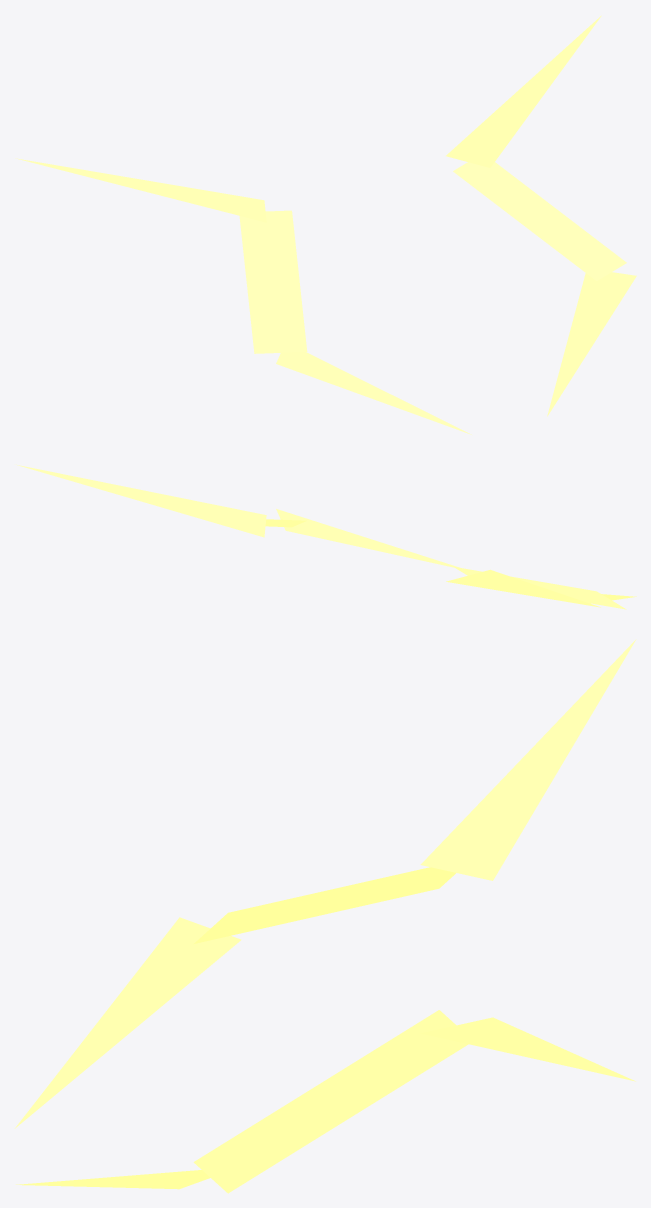
File: contact_expose.glb
The picture shows the model from 3 angles, top to bottom: view 1: azimuth 30°, elevation 25°; view 2: azimuth 150°, elevation 25°; view 3: azimuth 270°, elevation 25°; orthographic projection. The views are drawn at different scales.
Parts seen in each view (by area): view 1: contact_expose sparse contact artwork; view 2: contact_expose sparse contact artwork; view 3: contact_expose sparse contact artwork.
Boxes of the visible parts, x1,y1,x2,y2 form: contact_expose sparse contact artwork: (15, 15, 636, 434); contact_expose sparse contact artwork: (16, 464, 636, 609); contact_expose sparse contact artwork: (14, 639, 636, 1193).
Size of the model in its own units: 0.64 by 0.2 by 0.38.
